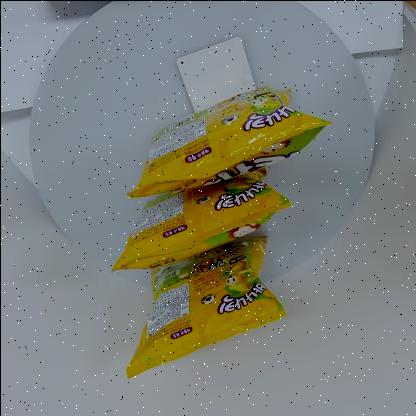Others: (102, 80, 338, 384)
